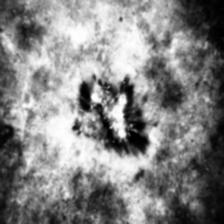Potentially Malignant Skin Tumors: (80, 72, 140, 144)
